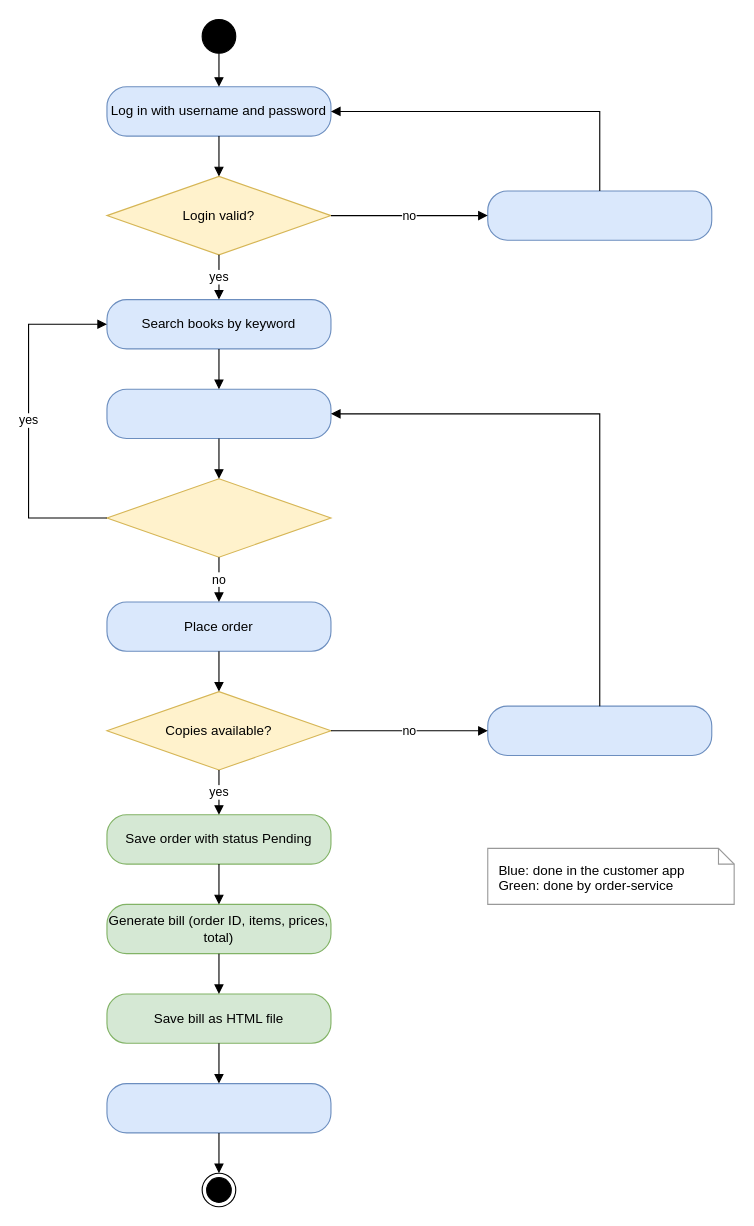
Image size: 754x1226. Some labels were removed from this diagram. The shapes that lost their labels are listed below. From the top down, each one's centre as x and y in pixels, then its label:
(599,215): Show error message
(218,413): Select a book and choose buy or rent
(218,517): Add more books?
(599,730): Show "not available" message
(218,1107): Show bill to the customer
